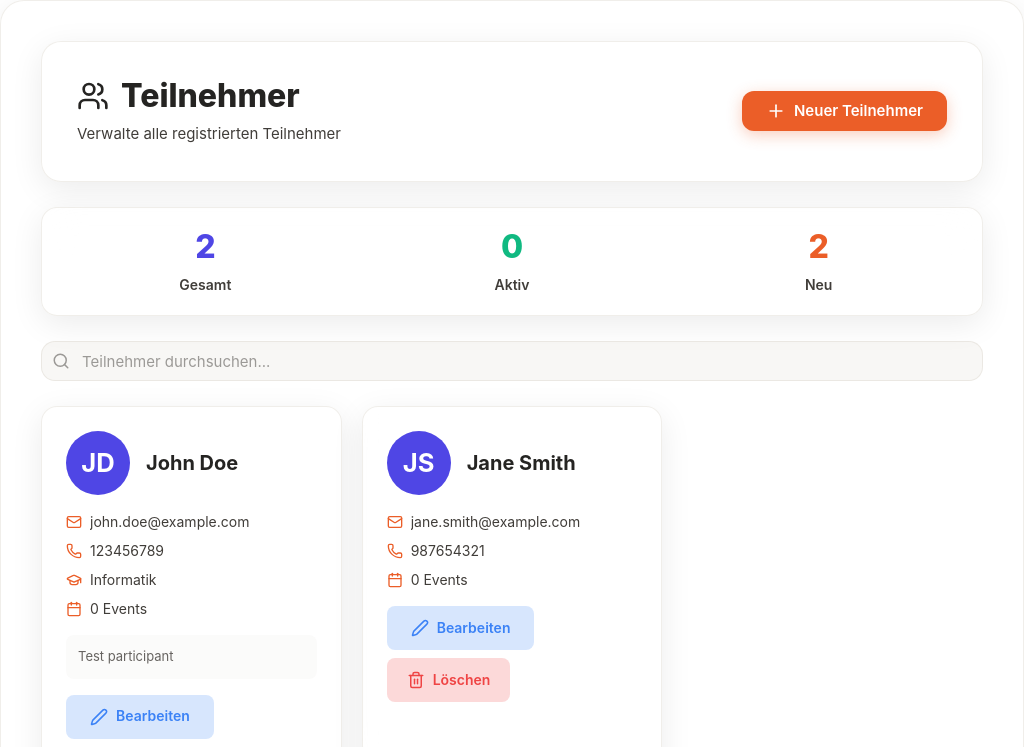
ParticipantsPage › should open create participant modal when button is clicked
Expected: the heading "John Doe" is shown, [146,451,238,475]
# Button text is i18n: "New participant" (en) or "Neuer Teilnehmer" (de)
Click the button "Neuer Teilnehmer" at (844, 111), box [742,91,947,131]
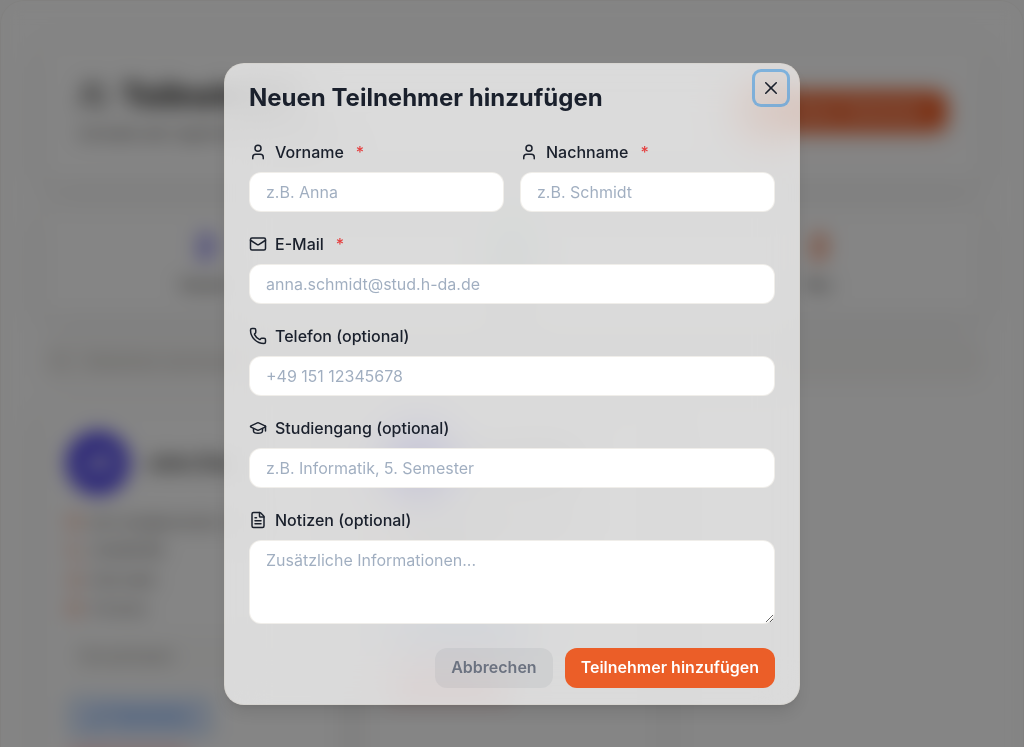
Now the text "Neuen Teilnehmer hinzufügen" is shown, box [249,83,603,112]
